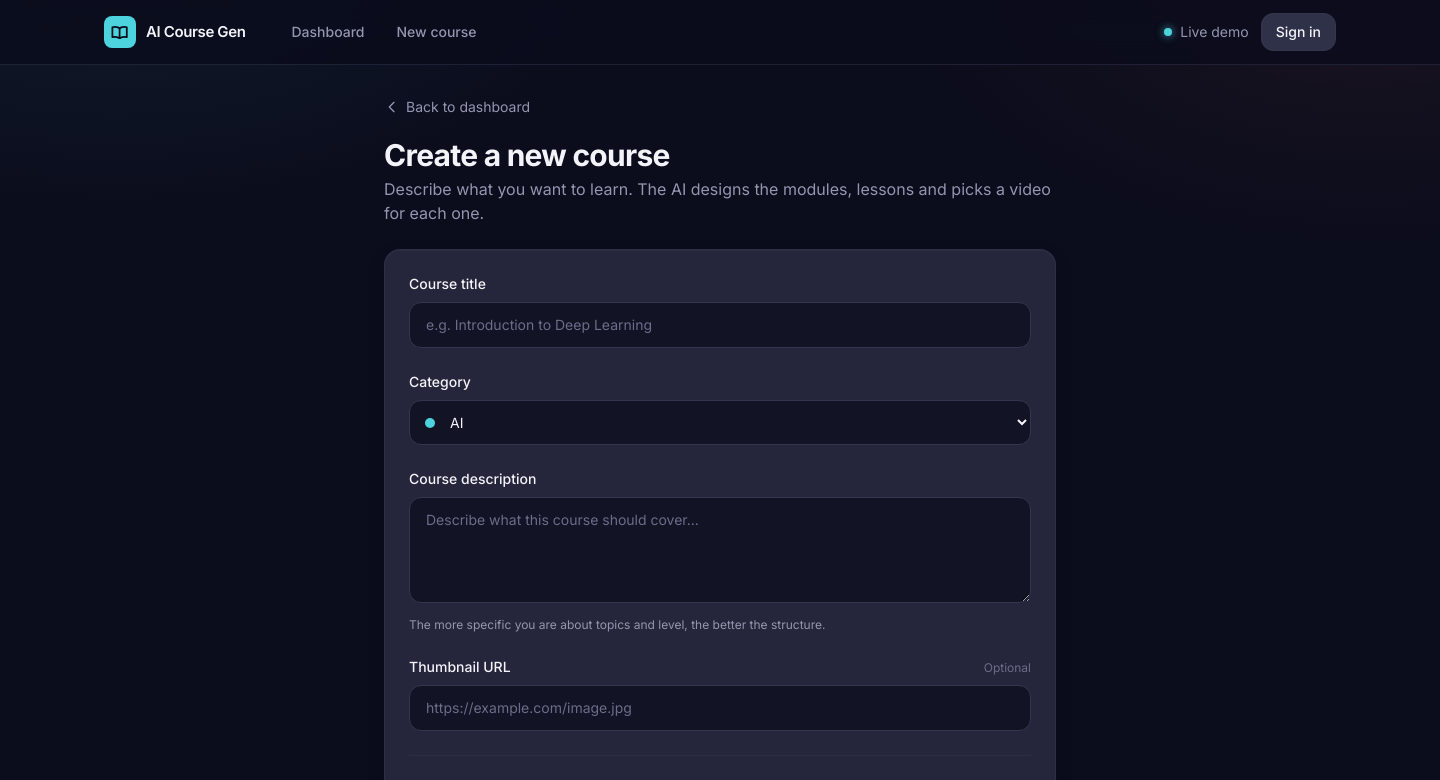
Test: shows the backend error when generation fails
Type "Deep Learning" into the field labelled "Course title". click: (720,325)
box: x1=409 y1=302 x2=1031 y2=348
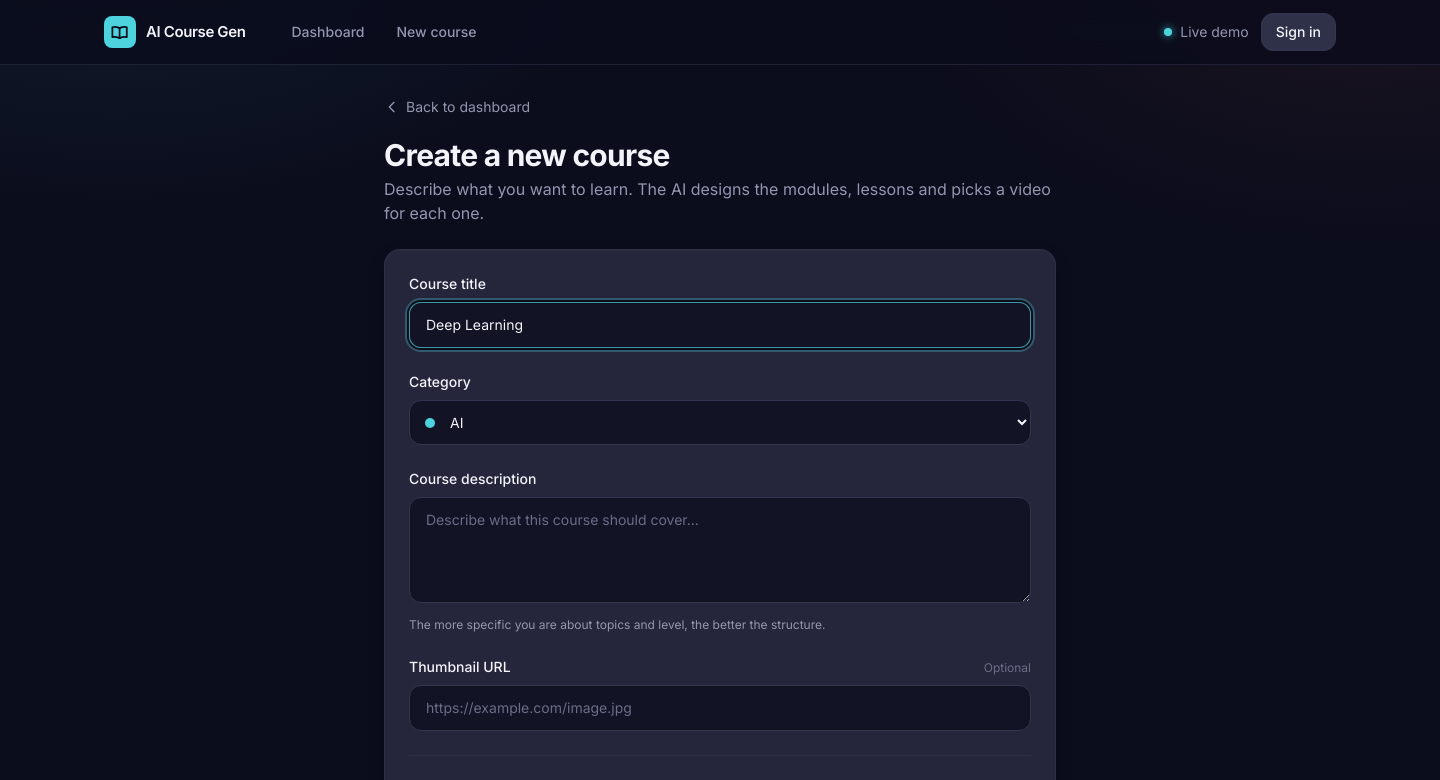
Type "Neural nets from scratch" into the text box labelled "Course description". click: (720,550)
box: x1=409 y1=497 x2=1031 y2=603
(page scrolled)
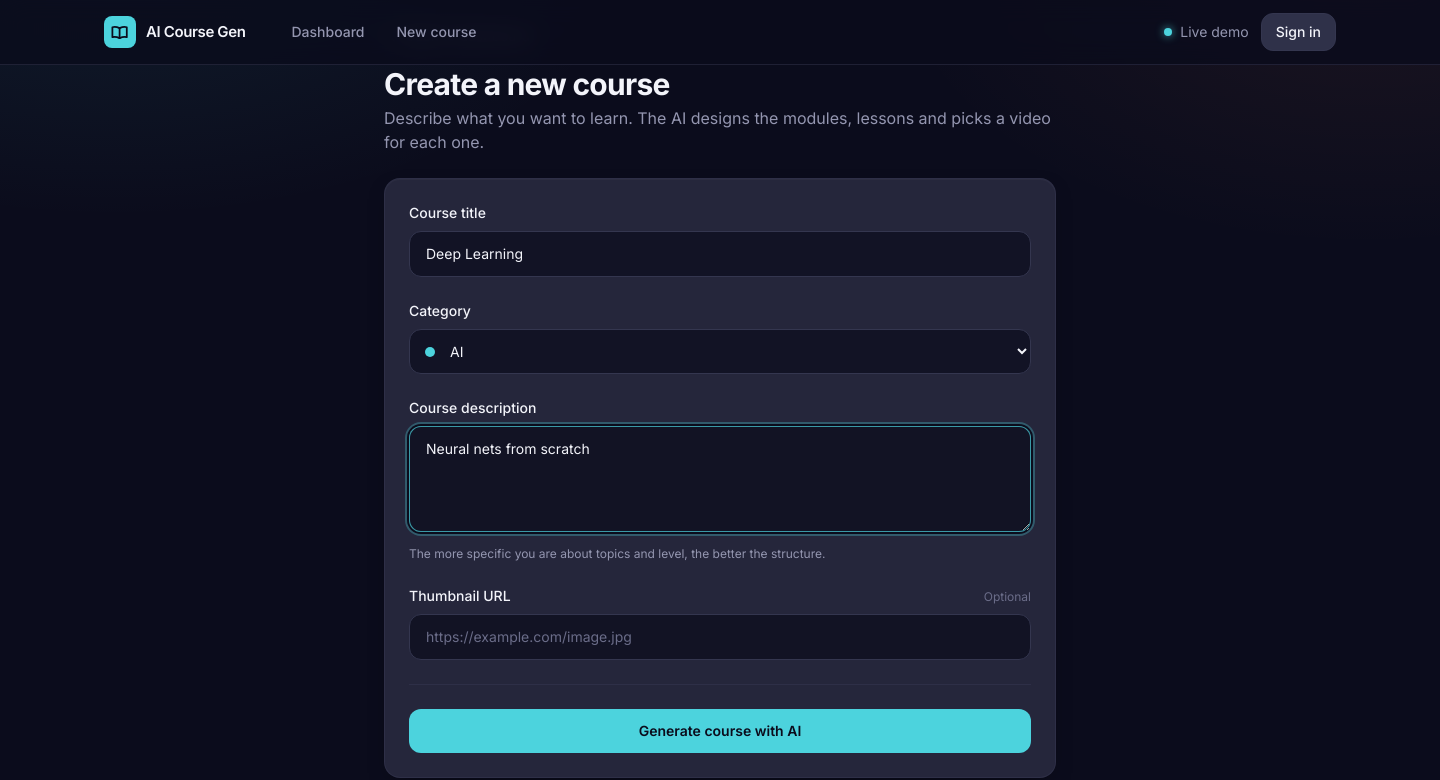
Click the button "Generate course with AI". click: (720,731)
box: x1=409 y1=709 x2=1031 y2=753
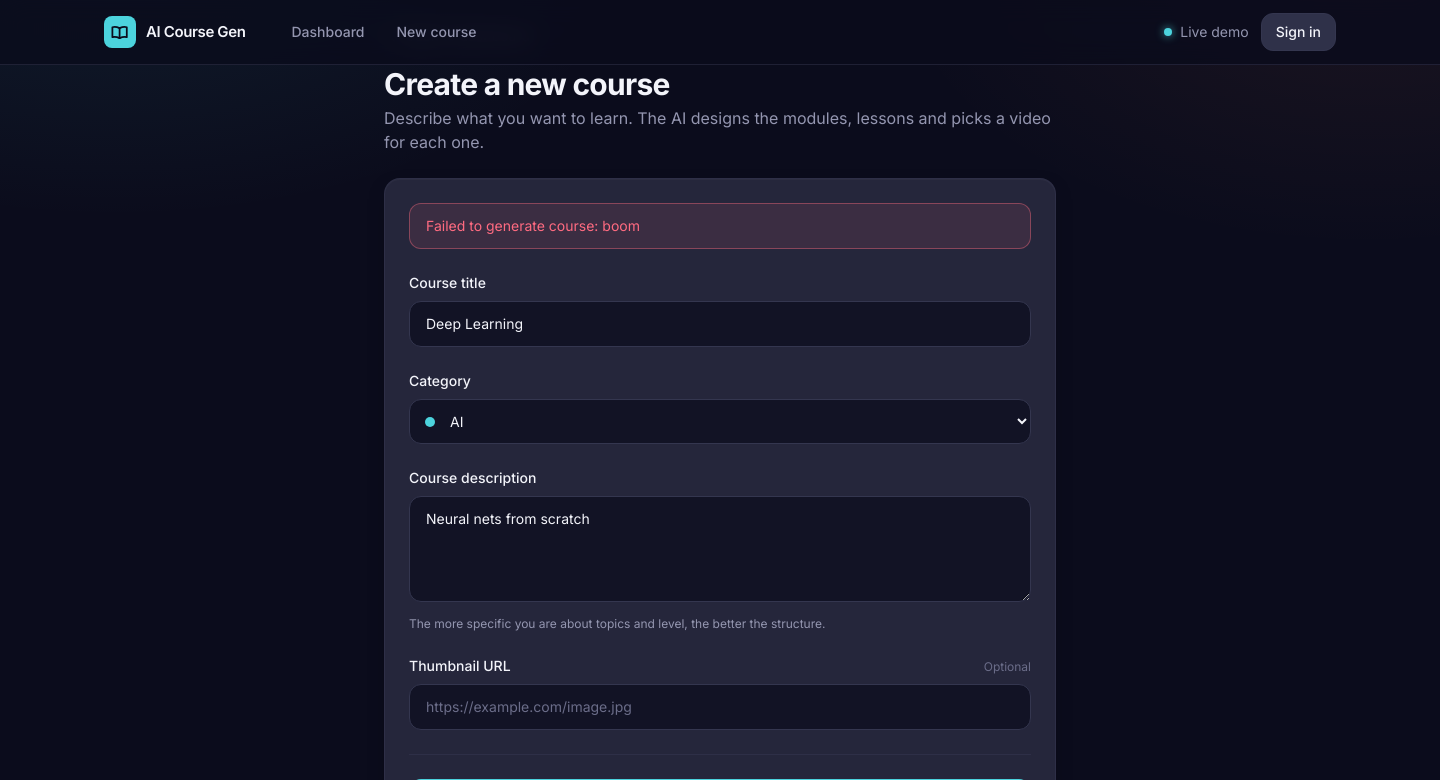
Now the text "Failed to generate course: boom" is shown, box x1=409 y1=203 x2=1031 y2=249
